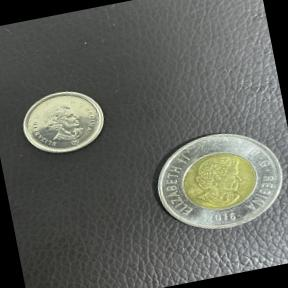coin: (137, 112, 288, 250), (12, 80, 115, 164)
